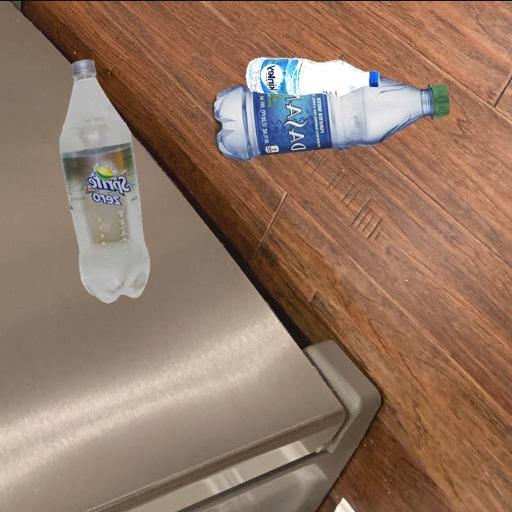bottle: (198, 30, 462, 166), (54, 0, 164, 154), (312, 52, 314, 104)
